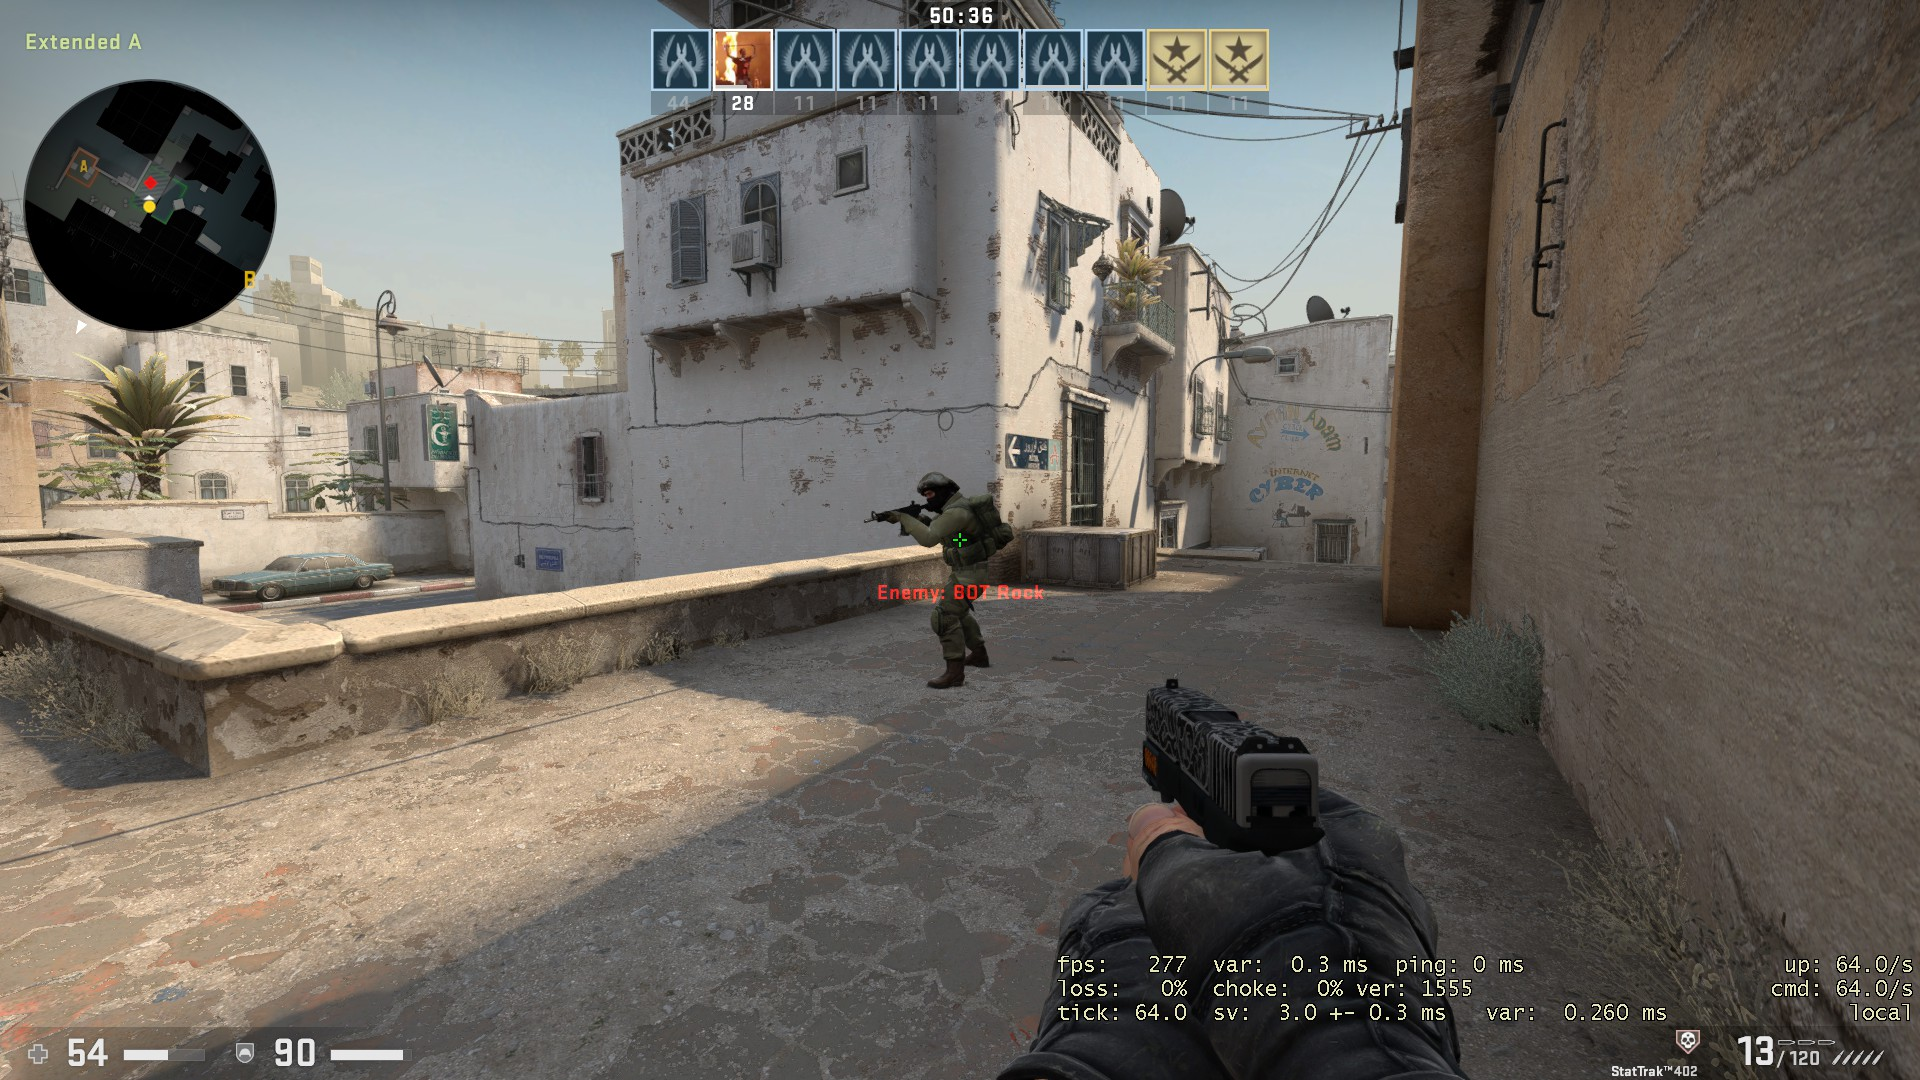player: (861, 465, 1023, 693)
